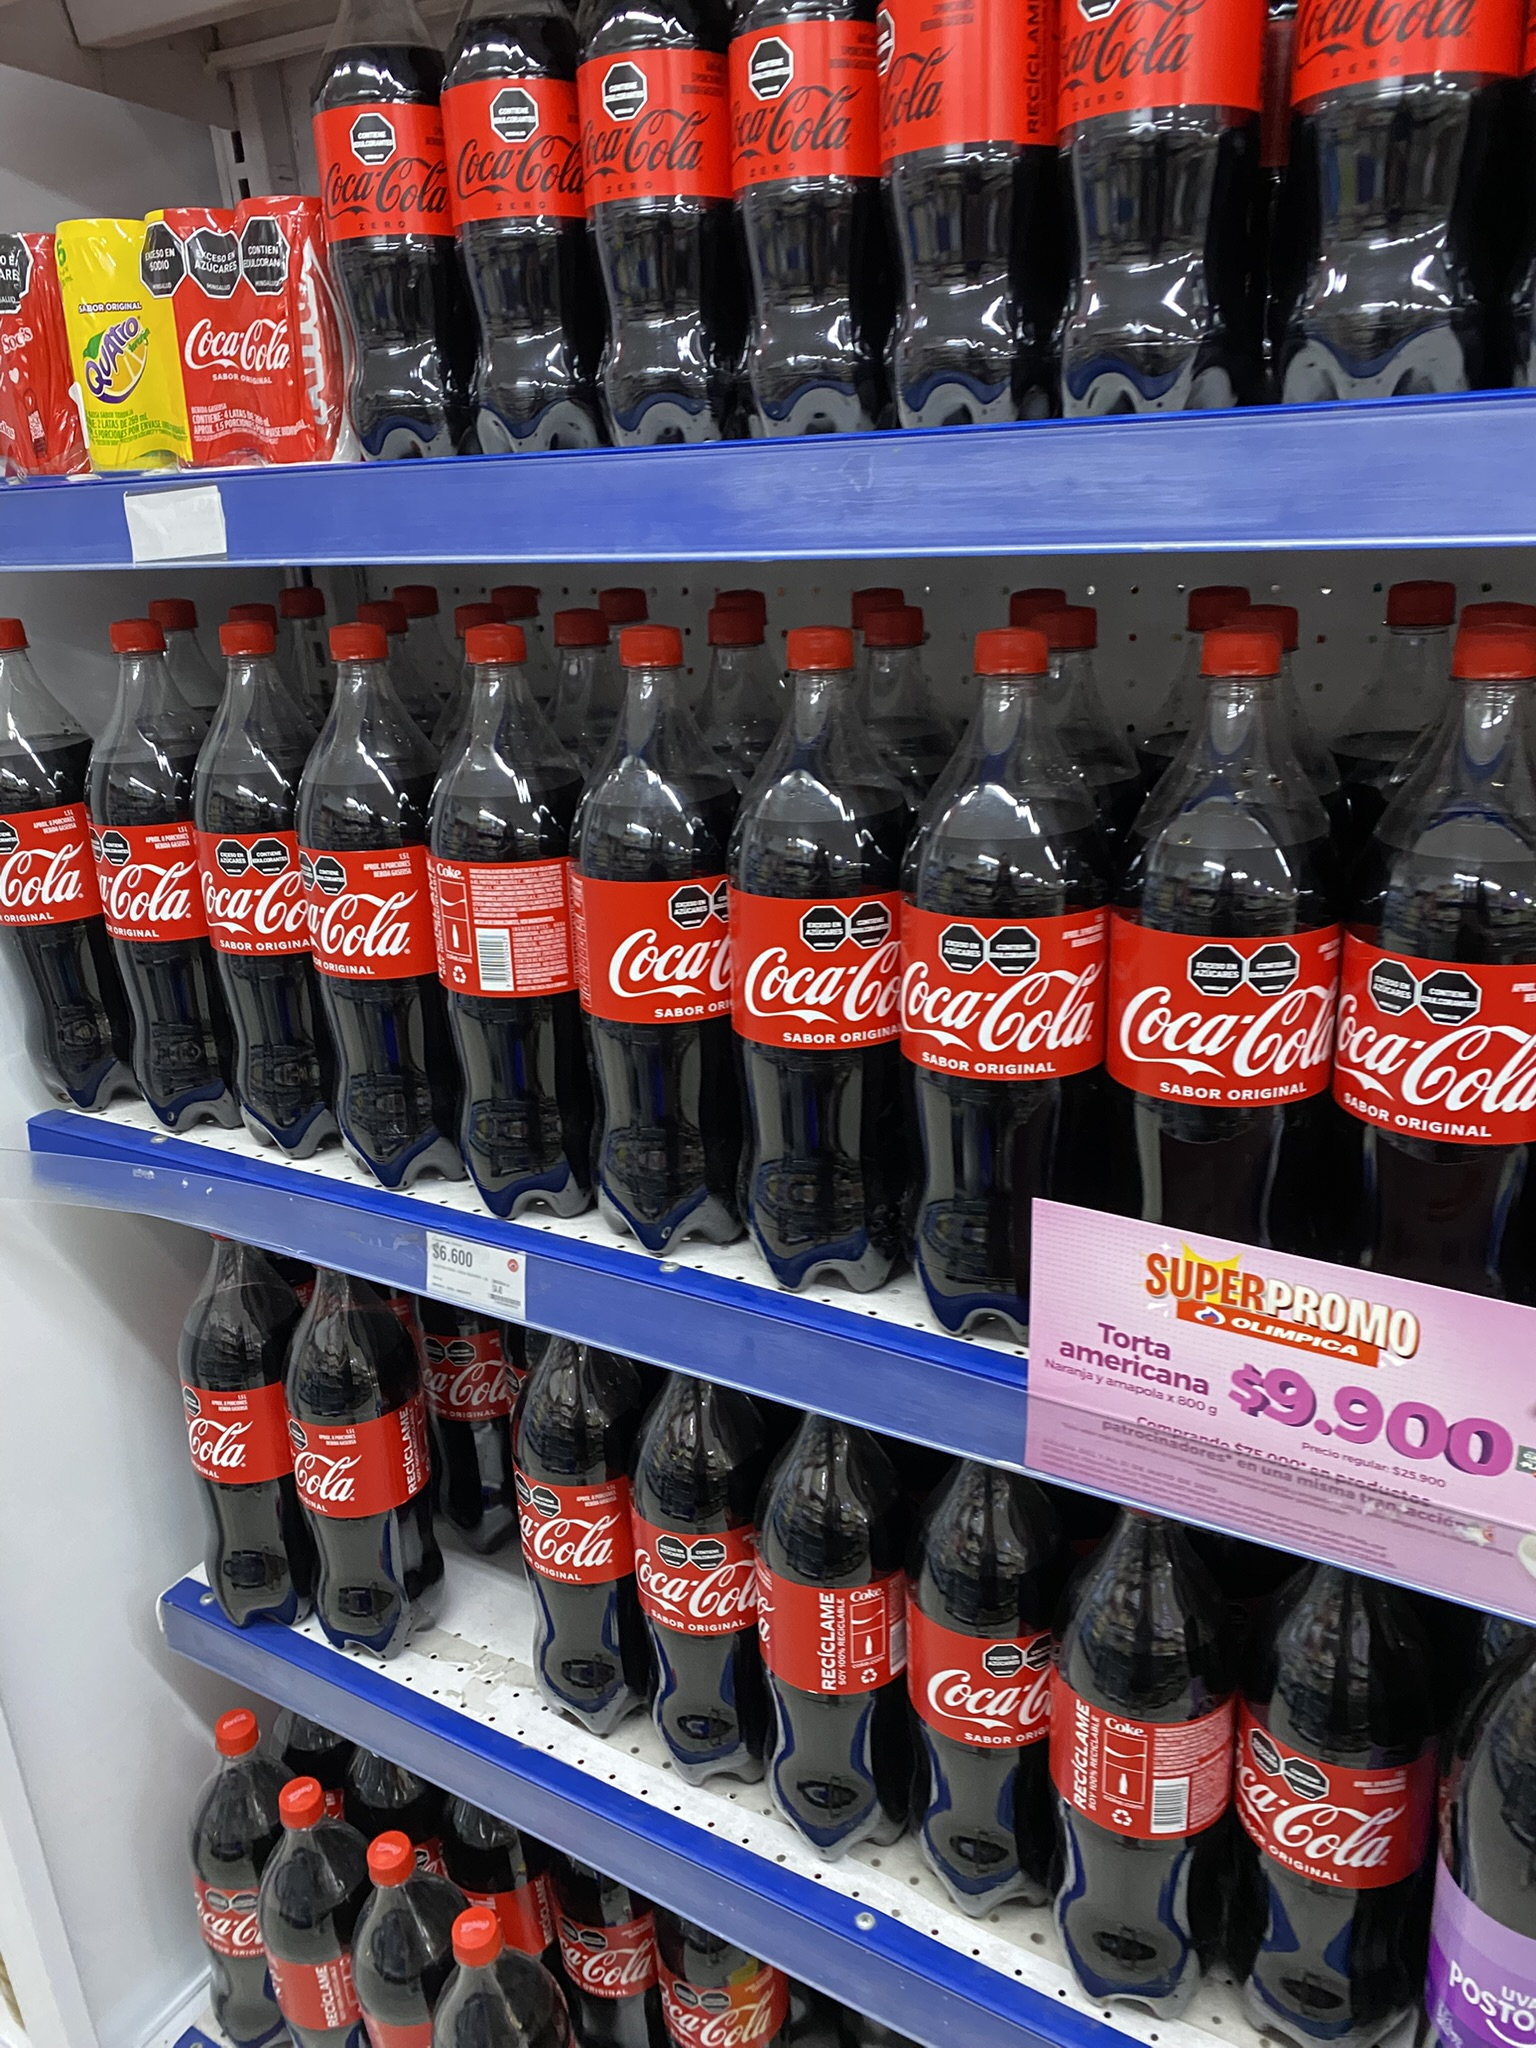Coca Cola: (900, 642, 1118, 1324), (1118, 619, 1338, 1245), (1333, 618, 1531, 1295), (747, 627, 916, 1309), (1218, 1521, 1431, 2045), (578, 627, 747, 1261), (1044, 1488, 1229, 2008), (432, 626, 591, 1232), (313, 622, 450, 1195), (907, 1443, 1068, 1917), (755, 1398, 920, 1846), (273, 1243, 450, 1658), (95, 605, 231, 1121), (0, 622, 132, 1124), (628, 1351, 779, 1784), (511, 1335, 668, 1740), (203, 614, 313, 1161), (174, 1208, 310, 1632), (186, 1706, 289, 2043), (276, 1785, 374, 2045), (360, 1838, 461, 2040), (461, 1921, 573, 2040)
